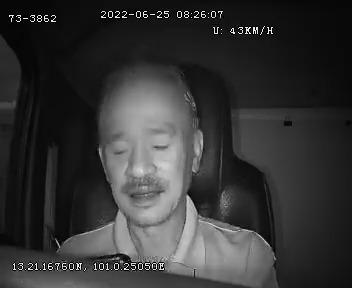PhoneUse: (69, 245, 135, 273)
